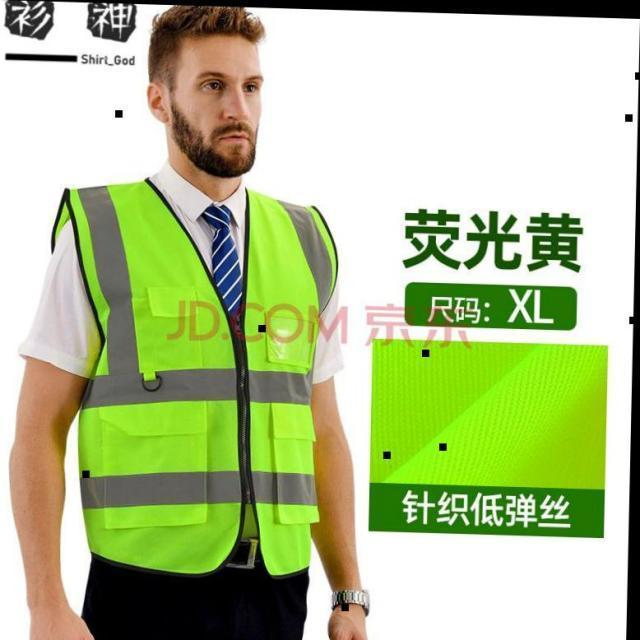safety_helmet: (46, 187, 339, 569)
